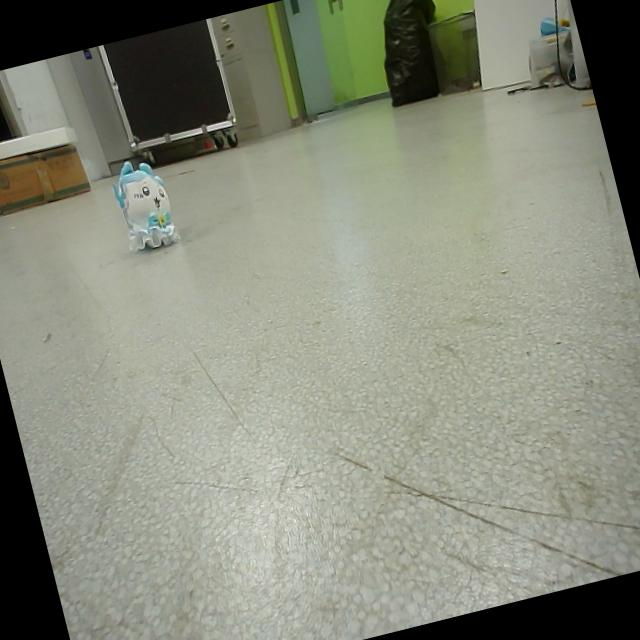xiaoba: (102, 146, 184, 263)
